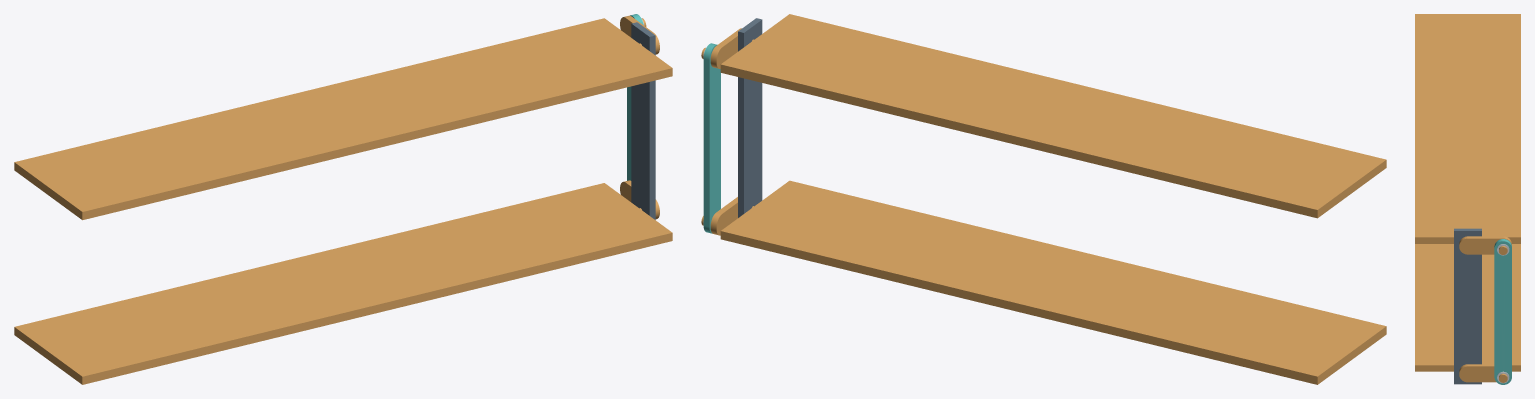
File: shade.glb
3 renders of one model, left to right at view 1: azimuth 30°, elevation 25°; view 2: azimuth 150°, elevation 25°; view 3: azimuth 270°, elevation 25°, orthographic. The views are drawn at different scales.
Parts seen in each view (by area): view 1: shade.upper_slat_rotor, shade.lower_slat_rotor, shade.fixture; view 2: shade.upper_slat_rotor, shade.lower_slat_rotor, shade.fixture, shade.coupler; view 3: shade.upper_slat_rotor, shade.lower_slat_rotor, shade.fixture, shade.coupler.
Part boxes in pixels (left/top/right/bottom): shade.upper_slat_rotor: left=14, top=15, right=672, bottom=220; shade.lower_slat_rotor: left=14, top=180, right=672, bottom=384; shade.fixture: left=631, top=22, right=655, bottom=219; shade.upper_slat_rotor: left=701, top=14, right=1386, bottom=218; shade.lower_slat_rotor: left=701, top=180, right=1386, bottom=384; shade.fixture: left=738, top=18, right=762, bottom=217; shade.coupler: left=703, top=43, right=720, bottom=233; shade.upper_slat_rotor: left=1415, top=14, right=1520, bottom=254; shade.lower_slat_rotor: left=1415, top=244, right=1520, bottom=382; shade.fixture: left=1454, top=228, right=1481, bottom=384; shade.coupler: left=1494, top=239, right=1511, bottom=384.
Size of the model in its own units: 0.314 by 0.096 by 0.06.
